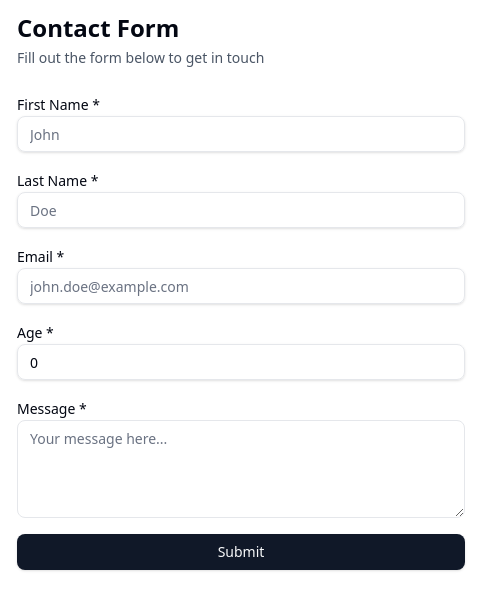
ContactForm › should show async validation error for first name containing "test"
Type "test" into the field labelled "First Name *".
click(241, 134); type("test")  # box [17,116,465,152]
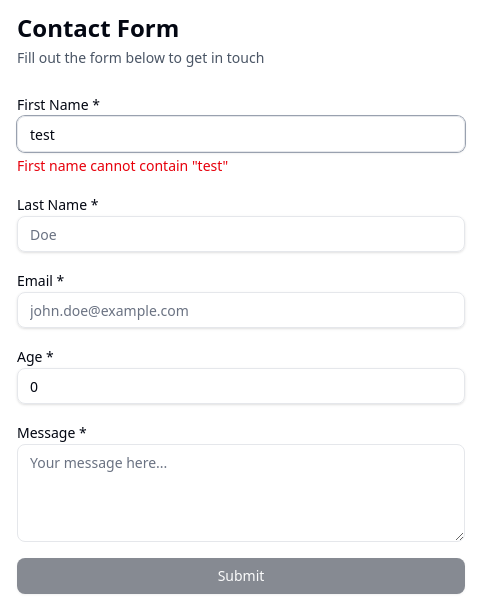
Now the text "First name cannot contain \"test\"" is shown, box [17,156,228,175]
